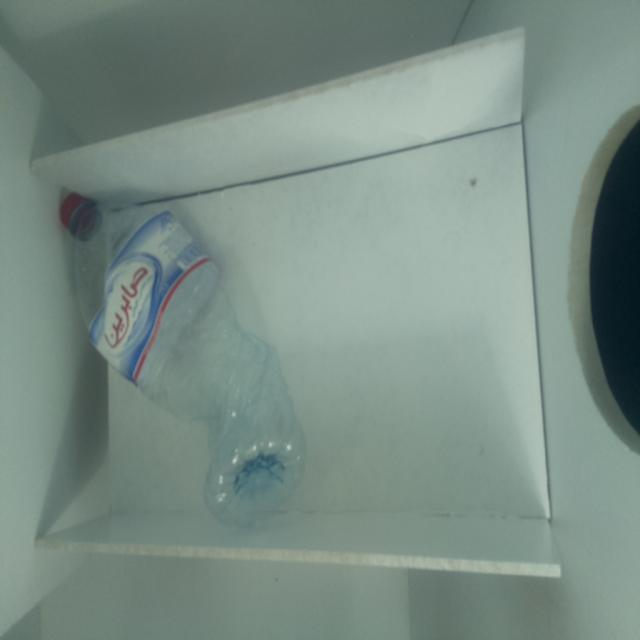Anorganik: (57, 185, 314, 506)
